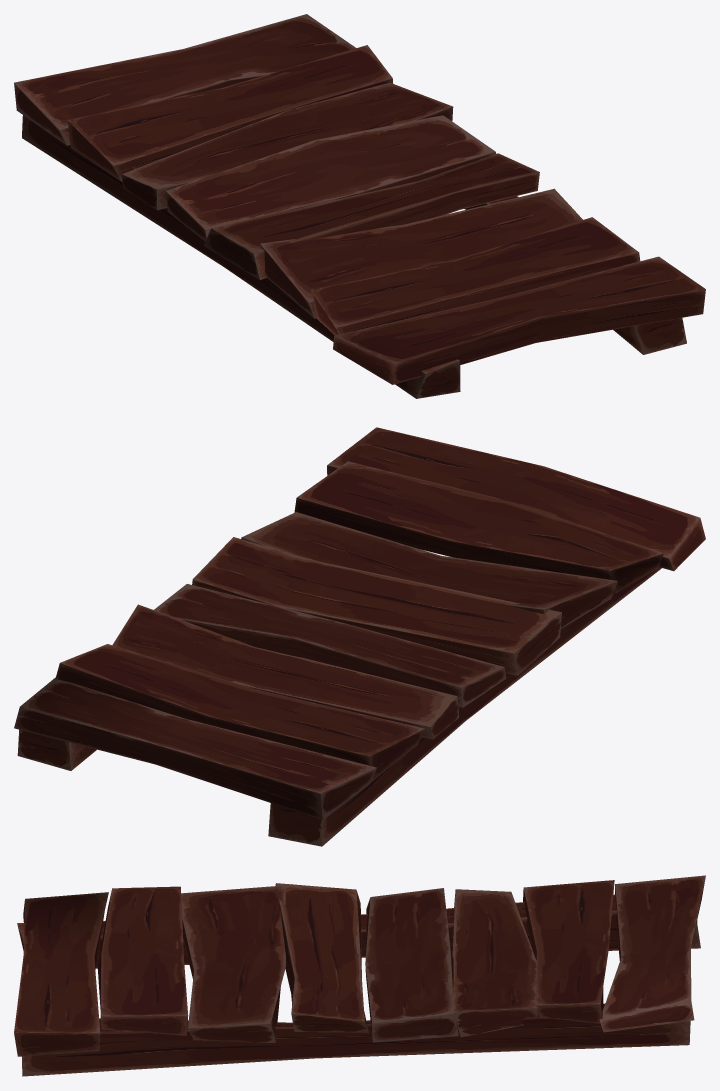
Rendered from SM_PROP_walkway_wood.fbx.
3 views of the same model, one above another, from view 1: azimuth 30°, elevation 25°; view 2: azimuth 150°, elevation 25°; view 3: azimuth 270°, elevation 25° (orthographic). The views are drawn at different scales.
Visible parts, largest first — view 1: SM_PROP_walkway_wood; view 2: SM_PROP_walkway_wood; view 3: SM_PROP_walkway_wood.
Part boxes in pixels (<box>): SM_PROP_walkway_wood: <box>14,14,705,398</box>; SM_PROP_walkway_wood: <box>14,427,705,846</box>; SM_PROP_walkway_wood: <box>14,875,705,1076</box>.
Bounding box in the file's own units: 291 × 64.86 × 579.
